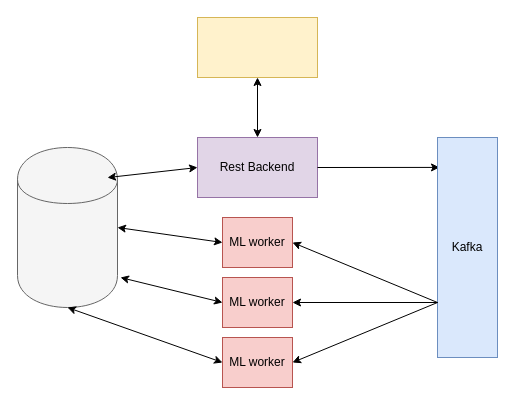
Some shapes in this 515 by 405 pixel diagram are drawn without their labels. The box of each missing label's shape, as (x1, y1, x2, y2) in pixels:
Database: (16, 146, 118, 308)
UI: (196, 16, 318, 78)
